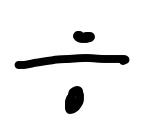div: (16, 31, 129, 114)
